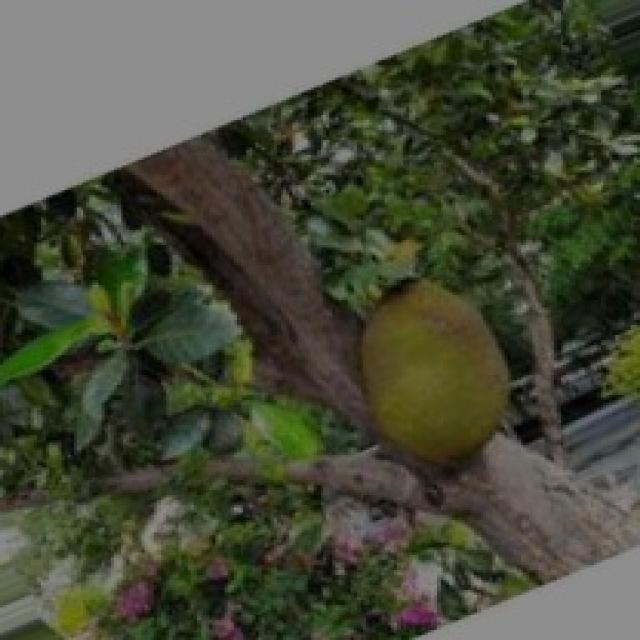Fruit: (323, 248, 542, 500)
